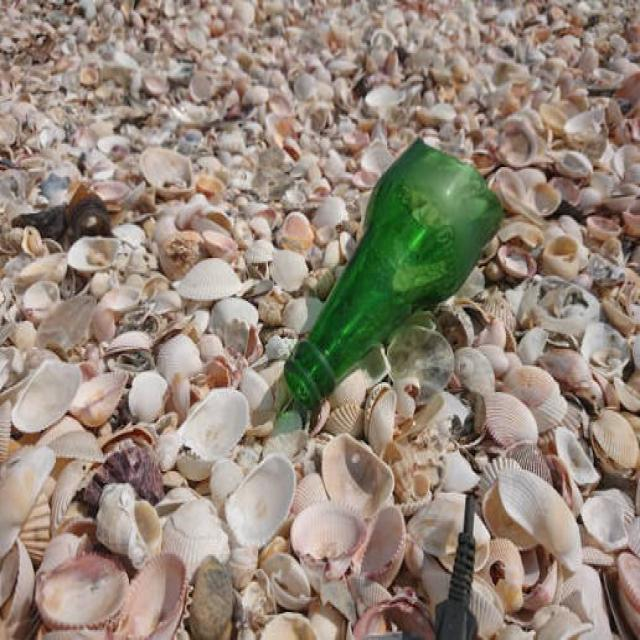glass: (268, 176, 512, 472)
